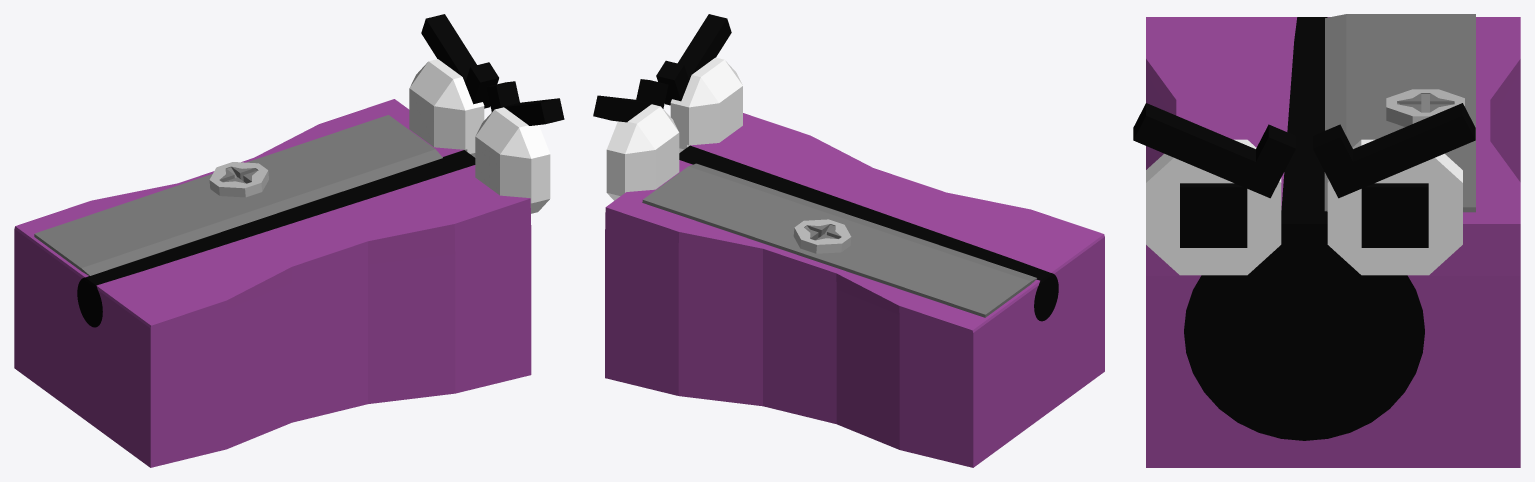
The model's file is SharpenerVar4.fbx.
3 renders of one model, left to right at view 1: azimuth 30°, elevation 25°; view 2: azimuth 150°, elevation 25°; view 3: azimuth 270°, elevation 25°, orthographic. The views are drawn at different scales.
Visible parts, largest first — view 1: SharpRed; view 2: SharpRed; view 3: SharpRed.
Boxes of the visible parts, x1=… form: SharpRed: x1=14, y1=14, x2=564, y2=467; SharpRed: x1=593, y1=14, x2=1104, y2=467; SharpRed: x1=1133, y1=14, x2=1520, y2=467.
Size of the model in its own units: 128 by 215 by 135.
